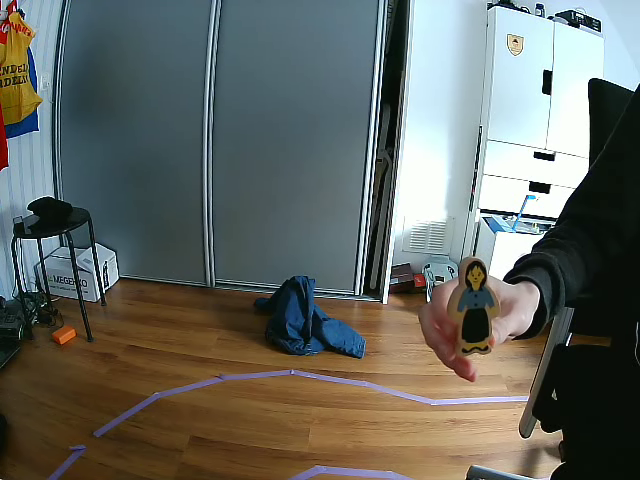mens: (447, 255, 500, 355)
